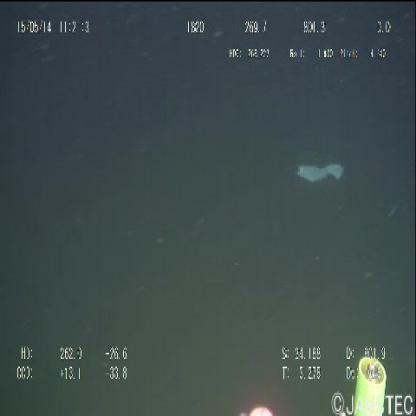Rác: (294, 154, 349, 194)
